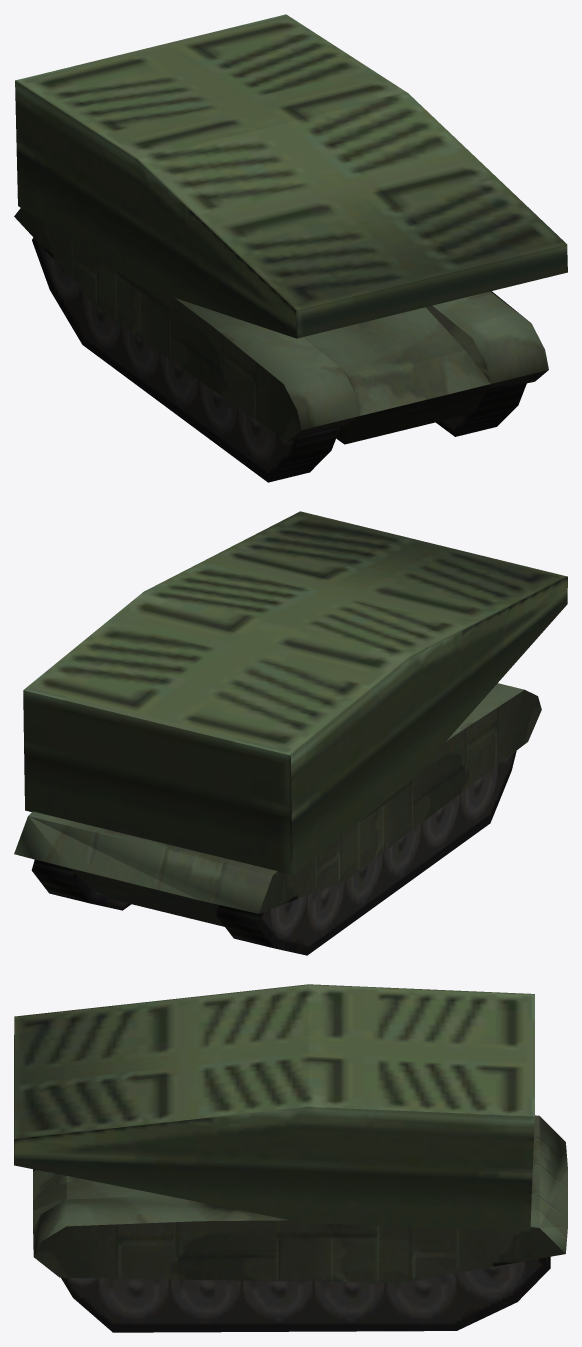
The model's file is JAB.DAE.
The picture shows the model from 3 angles, top to bottom: view 1: azimuth 30°, elevation 25°; view 2: azimuth 150°, elevation 25°; view 3: azimuth 270°, elevation 25°; orthographic projection. The views are drawn at different scales.
Visible parts, largest first — view 1: _1126_JAB; view 2: _1126_JAB; view 3: _1126_JAB.
Part boxes in pixels (x1=…): _1126_JAB: x1=14, y1=14, x2=567, y2=482; _1126_JAB: x1=14, y1=511, x2=567, y2=955; _1126_JAB: x1=14, y1=984, x2=567, y2=1332.
Size of the model in its own units: 106 by 93.81 by 202.
Materials: 1 (1 with a texture image).
